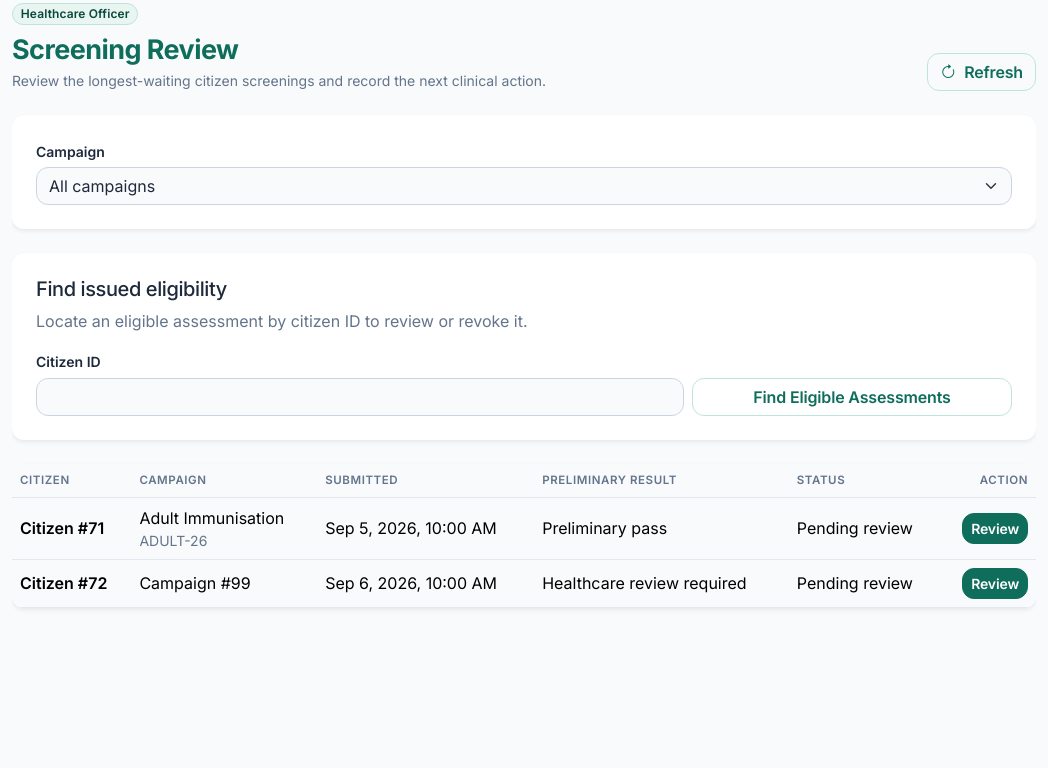
Scenario: HealthcareOfficerScreeningReviewQueuePage › locates issued eligible assessments by citizen ID without exposing other statuses
The width and height of the screenshot is (1048, 768).
Expected: the text "Citizen #71" is shown, [12, 498, 131, 560]
Type " 71 " into the field labelled "Citizen ID" at (360, 397), box [36, 378, 684, 416]
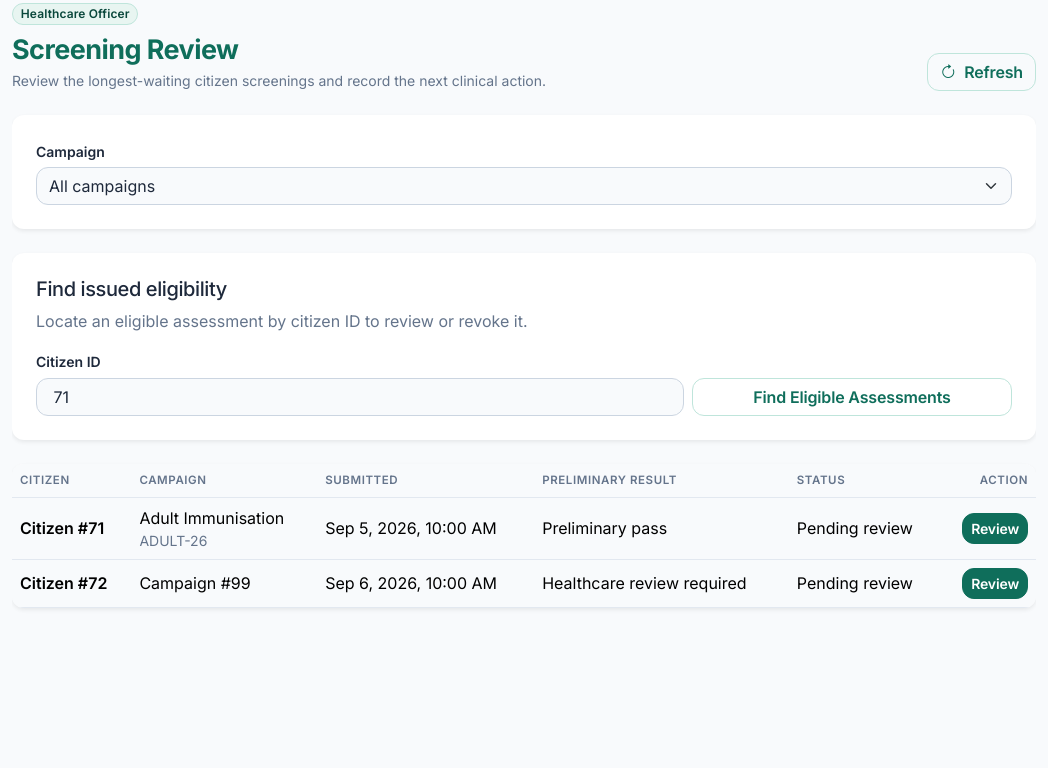
Click the button "Find Eligible Assessments" at (852, 397), box [692, 378, 1012, 416]
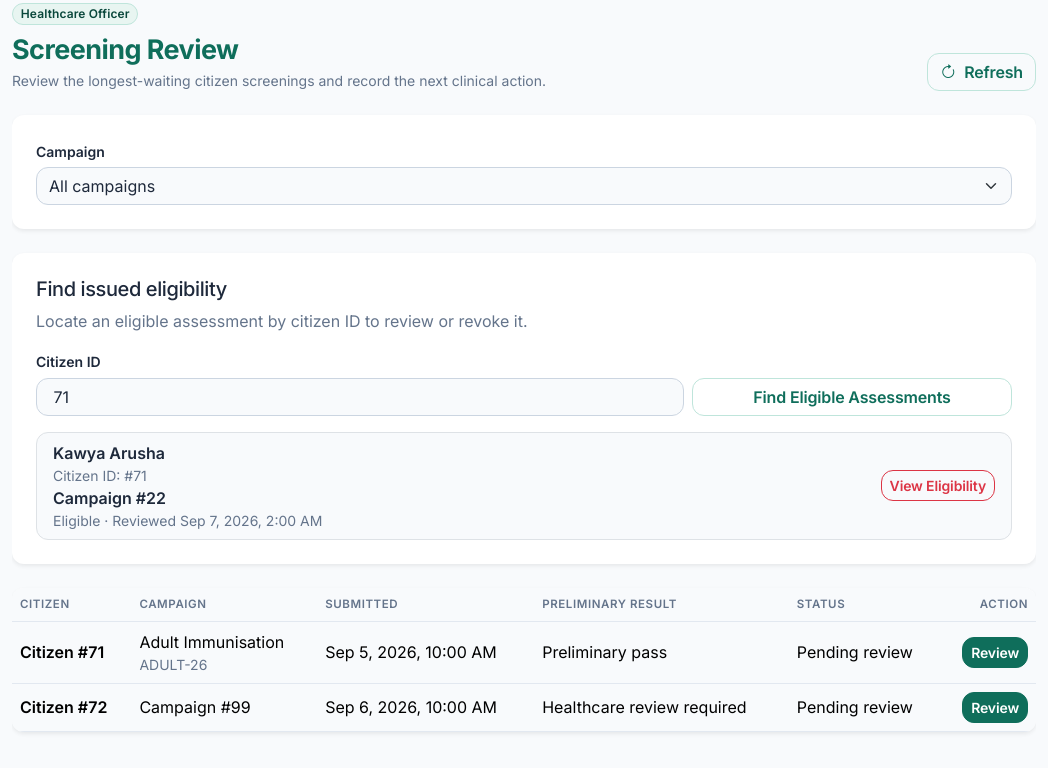
Expected: the text "Campaign #22" is shown, [53, 488, 166, 508]
Expected: the text "Kawya Arusha" is shown, [53, 443, 165, 463]
Expected: the text "Citizen ID: #71" is shown, [53, 467, 147, 484]
